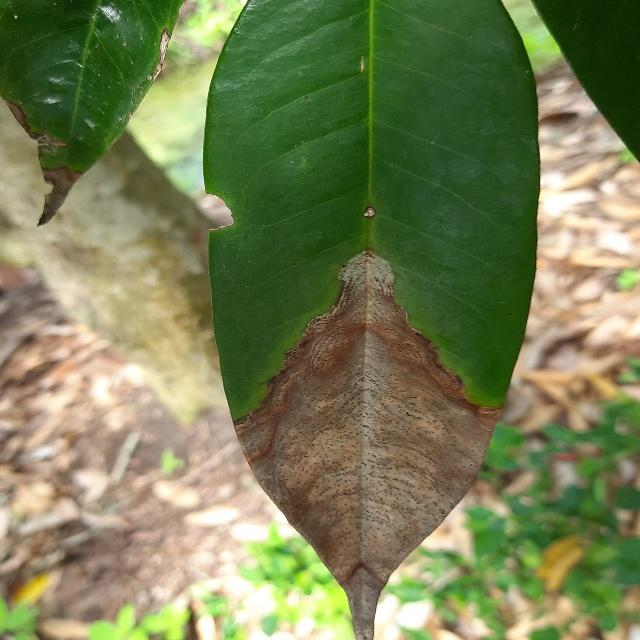Leaf Blight: (195, 0, 549, 640)
